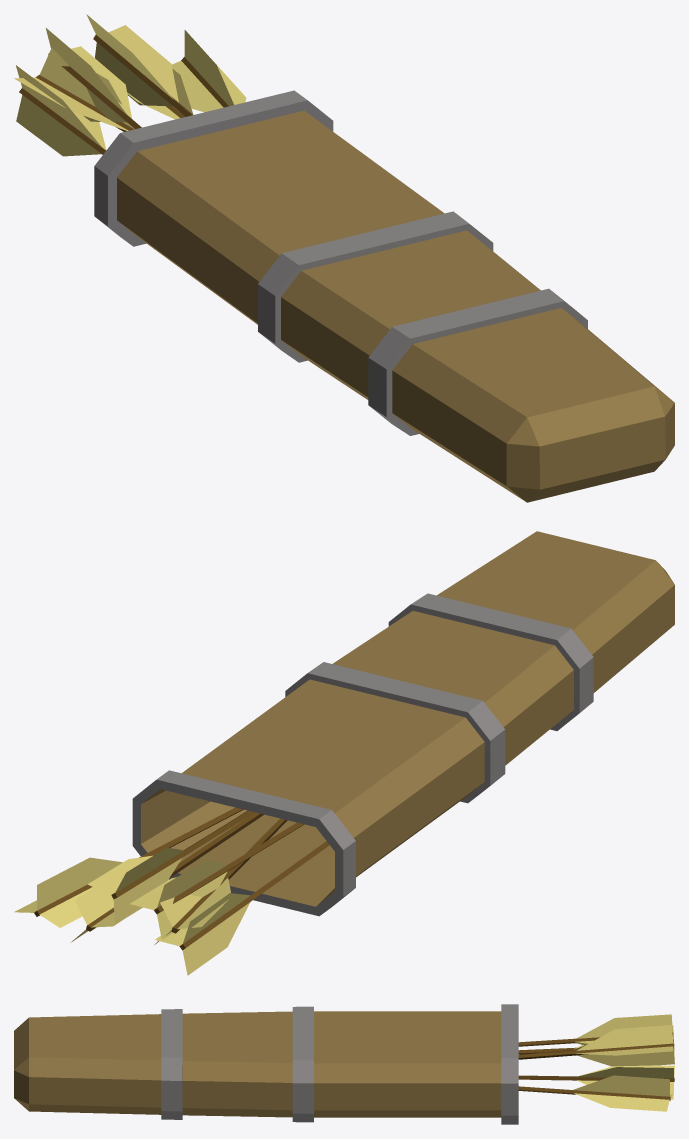
The model's file is mesh_quiver.fbx.
3 renders of one model, top to bottom at view 1: azimuth 30°, elevation 25°; view 2: azimuth 150°, elevation 25°; view 3: azimuth 270°, elevation 25°, orthographic. The views are drawn at different scales.
Parts seen in each view (by area): view 1: quiver; view 2: quiver; view 3: quiver.
Boxes of the visible parts, x1,y1,x2,y2 form: quiver: (14,14,674,502); quiver: (14,531,674,975); quiver: (14,1004,674,1124).
Bounding box in the file's own units: 42.33 × 19.46 × 161.
Materials: 1 (1 with a texture image).
